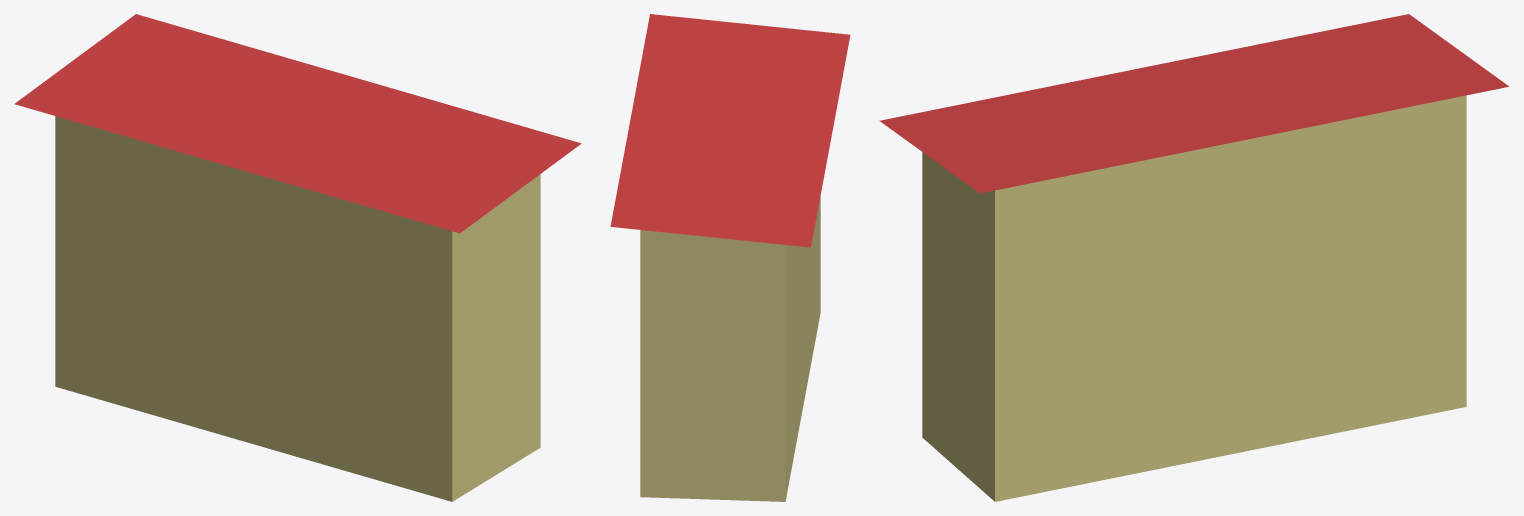
The picture shows the model from 3 angles, left to right: view 1: azimuth 30°, elevation 25°; view 2: azimuth 150°, elevation 25°; view 3: azimuth 270°, elevation 25°; orthographic projection. The views are drawn at different scales.
Size of the model in its own units: 7.2 by 9.8 by 5.6.
